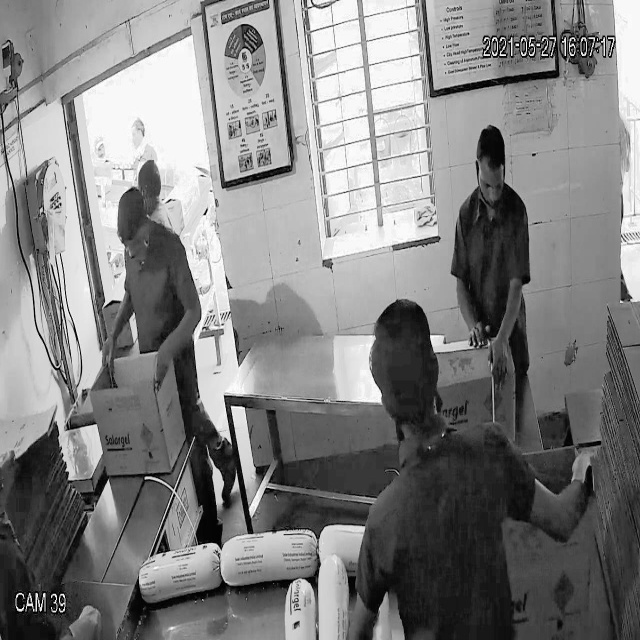Sin_gafas: (471, 164, 510, 198)
